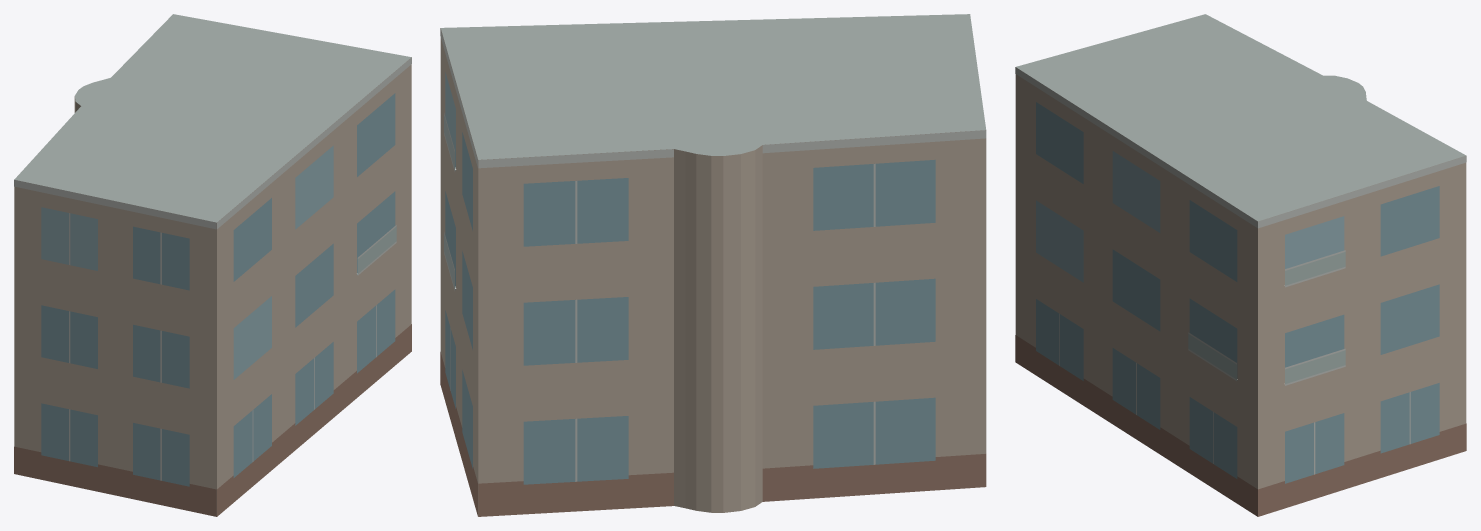
The model's file is survey-upis-32893264.glb.
3 renders of one model, left to right at view 1: azimuth 30°, elevation 25°; view 2: azimuth 150°, elevation 25°; view 3: azimuth 270°, elevation 25°, orthographic. The views are drawn at different scales.
Visible parts, largest first — view 1: survey-upis-32893264.tmp; view 2: survey-upis-32893264.tmp; view 3: survey-upis-32893264.tmp.
Boxes of the visible parts, left/top/right/bottom form: survey-upis-32893264.tmp: left=14, top=14, right=411, bottom=516; survey-upis-32893264.tmp: left=440, top=14, right=986, bottom=516; survey-upis-32893264.tmp: left=1015, top=14, right=1466, bottom=516.
Size of the model in its own units: 15.68 by 10.4 by 14.4.
